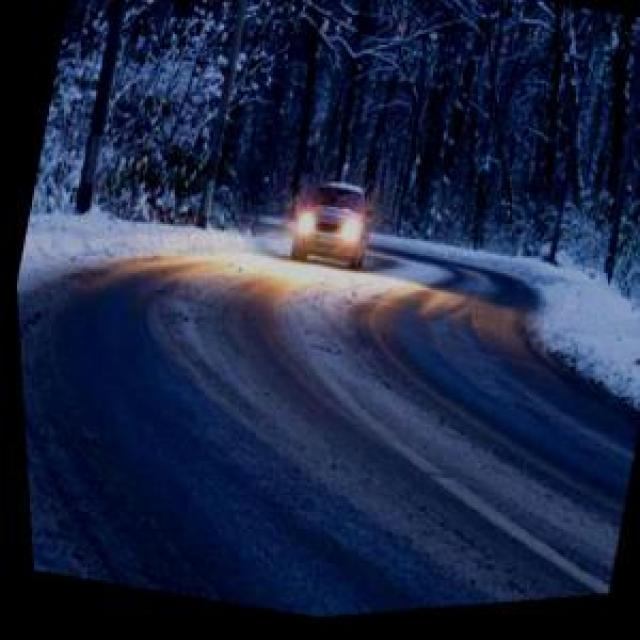clear-road: (16, 252, 636, 621)
